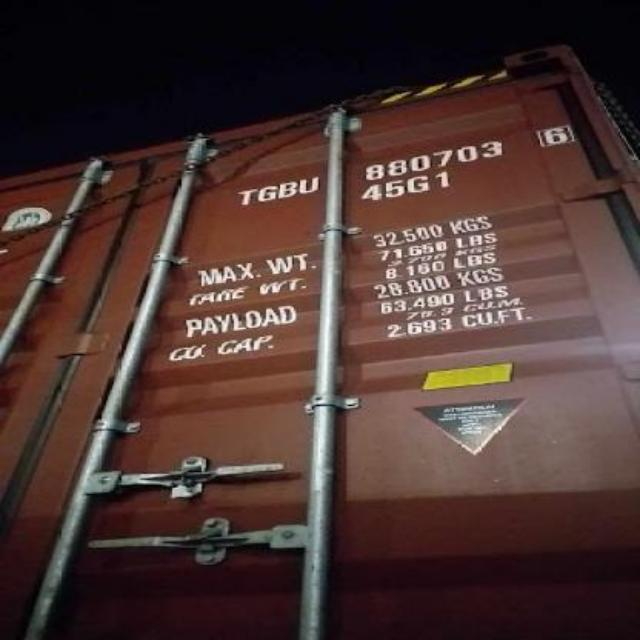0: (450, 142, 478, 164), (411, 150, 432, 172)
3: (482, 137, 506, 161)
6: (538, 122, 572, 148)
7: (430, 146, 460, 168)
8: (360, 158, 388, 178), (388, 157, 409, 175)
B: (278, 175, 302, 201)
G: (256, 175, 278, 205)
T: (239, 178, 255, 214)
U: (302, 176, 328, 197)
